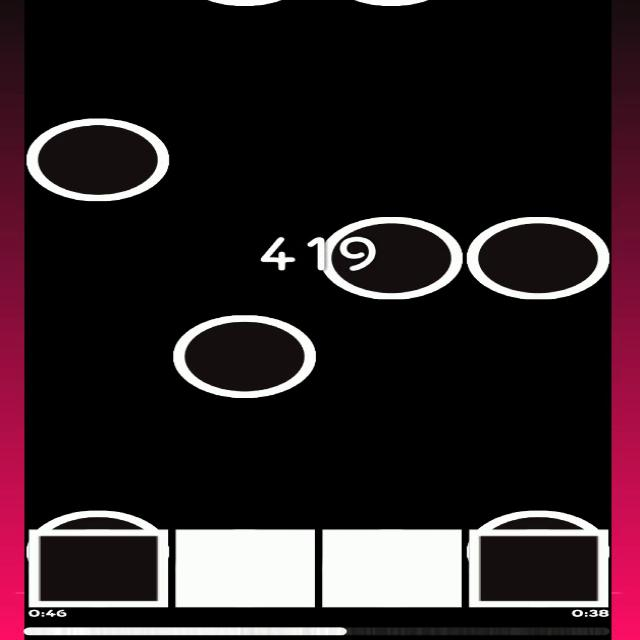note: (313, 216, 464, 300), (28, 117, 173, 204), (464, 215, 610, 301), (173, 312, 313, 398), (472, 501, 606, 533), (32, 504, 166, 532)
